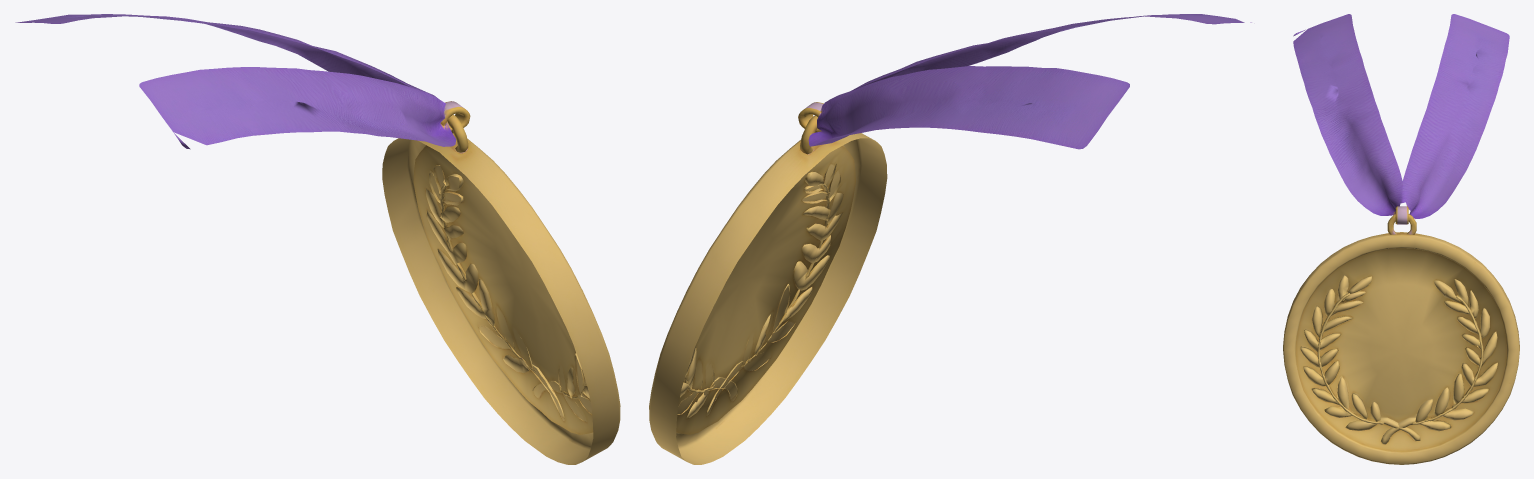
The model's file is r33-medal.glb.
3 renders of one model, left to right at view 1: azimuth 30°, elevation 25°; view 2: azimuth 150°, elevation 25°; view 3: azimuth 270°, elevation 25°, orthographic. The views are drawn at different scales.
Visible parts, largest first — view 1: tripo_node_d1591461-602c-408c-8ba5-b5e7c3f60735; view 2: tripo_node_d1591461-602c-408c-8ba5-b5e7c3f60735; view 3: tripo_node_d1591461-602c-408c-8ba5-b5e7c3f60735.
Part boxes in pixels (<box>): tripo_node_d1591461-602c-408c-8ba5-b5e7c3f60735: <box>15,14,620,464</box>; tripo_node_d1591461-602c-408c-8ba5-b5e7c3f60735: <box>649,14,1251,464</box>; tripo_node_d1591461-602c-408c-8ba5-b5e7c3f60735: <box>1283,14,1519,464</box>.
Size of the model in its own units: 0.9707 by 0.998 by 0.6816.
Materials: 1 (1 with a texture image).
